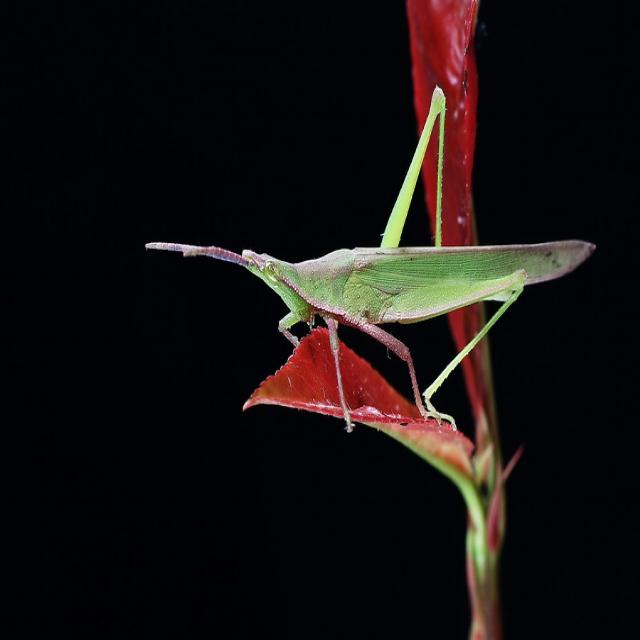ZhaMeng: (145, 79, 601, 406)
